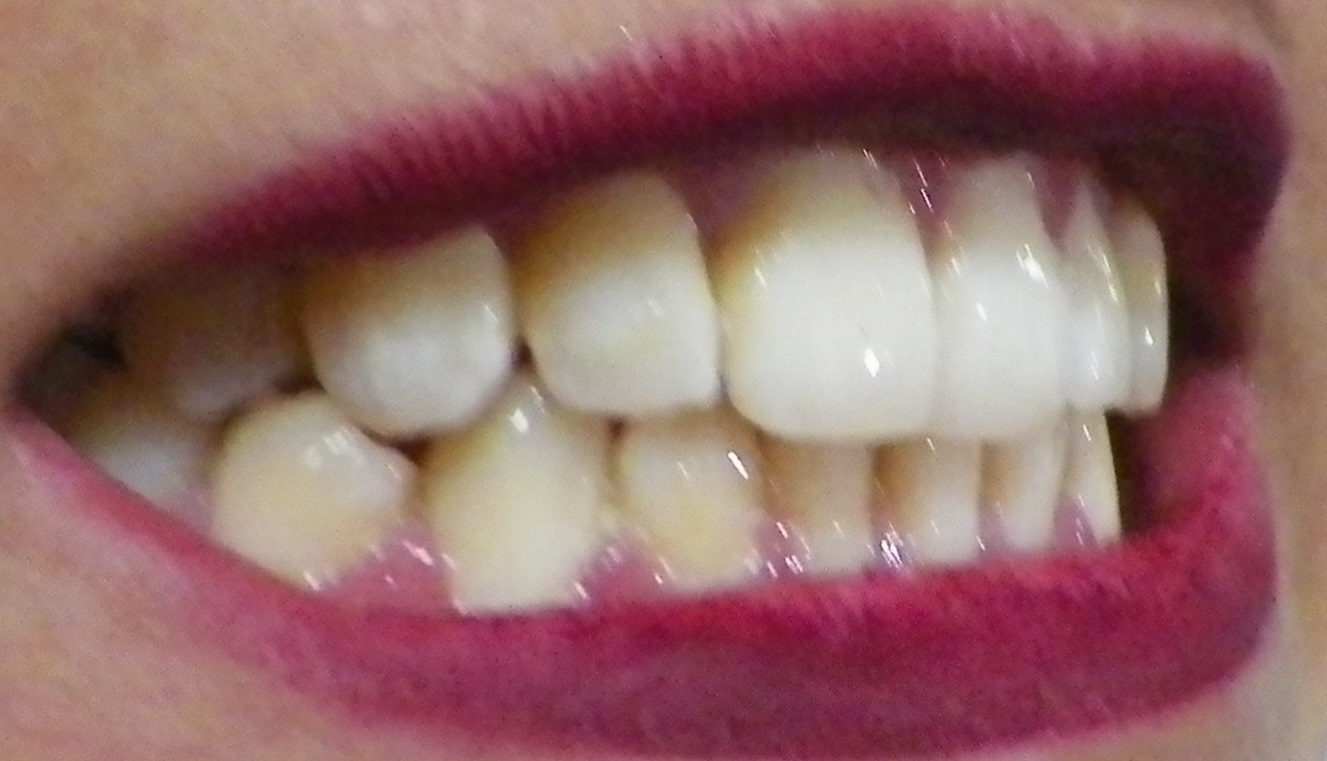boca: (68, 150, 1192, 583)
